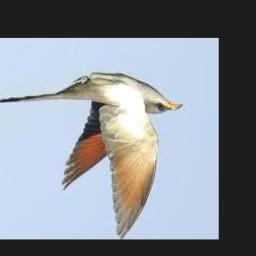Cuckoo: (0, 74, 181, 239)
